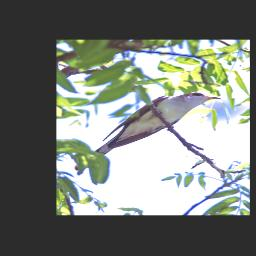Cuckoo: (74, 92, 222, 171)
